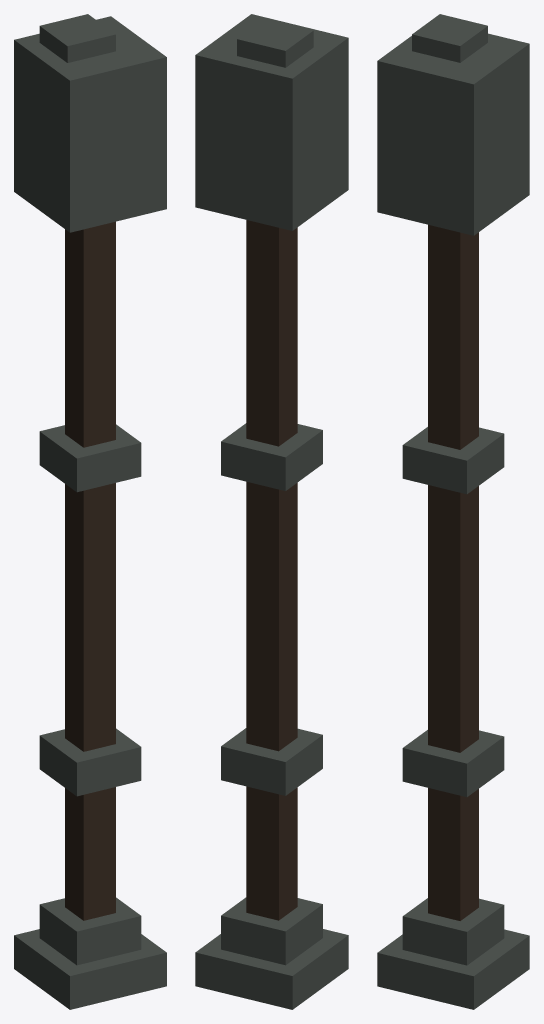
The model's file is hearthvale_lamp_post.obj.
3 renders of one model, left to right at view 1: azimuth 30°, elevation 25°; view 2: azimuth 150°, elevation 25°; view 3: azimuth 330°, elevation 25°, orthographic.
Parts seen in each view (by area): view 1: palette_9, palette_15; view 2: palette_9, palette_15; view 3: palette_9, palette_15.
Boxes of the visible parts, box(x1,y1,x2,y2) form: palette_9: box(14, 14, 166, 1009); palette_15: box(65, 221, 115, 920); palette_9: box(195, 14, 348, 1009); palette_15: box(246, 220, 297, 920); palette_9: box(377, 14, 529, 1009); palette_15: box(428, 224, 478, 920).
Bounding box in the file's own units: 0.75 × 7 × 0.75.
